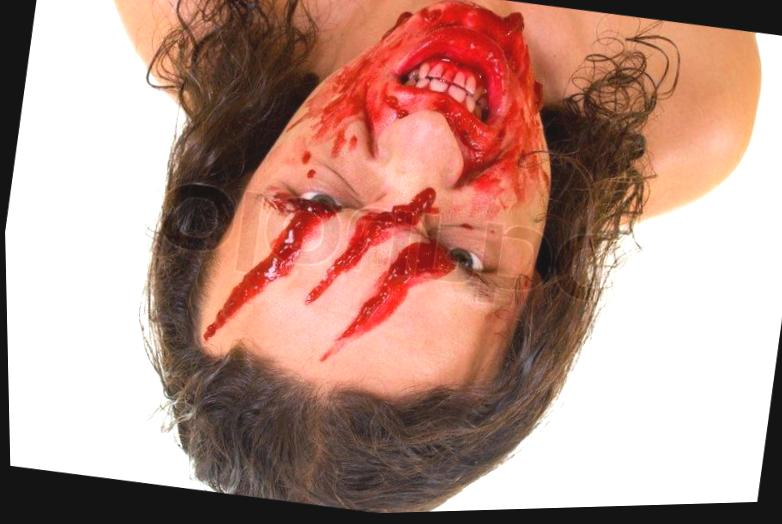Fire: (276, 0, 550, 233), (201, 196, 342, 343), (305, 191, 438, 305), (335, 241, 457, 345)
